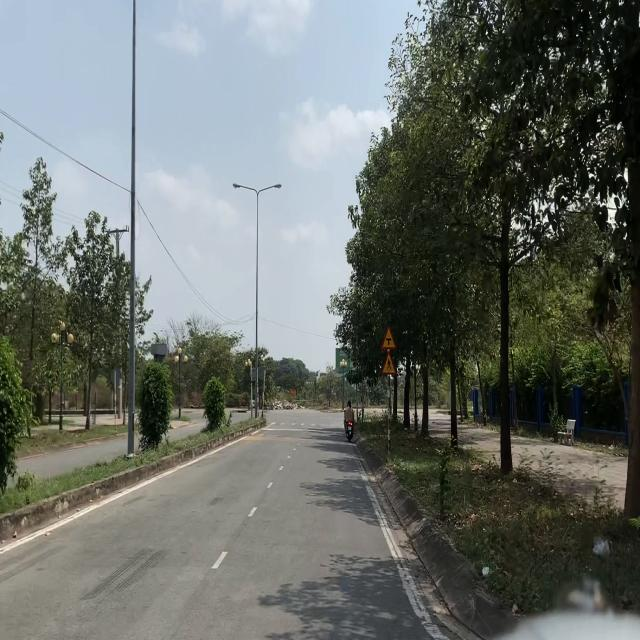Duong giao nhau: (380, 326, 398, 350)
Nguoi di bo cat ngang: (381, 350, 396, 376)
